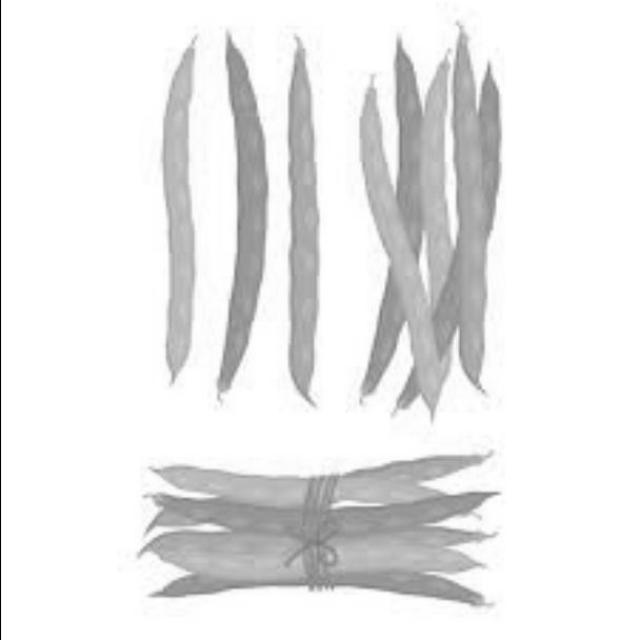bean: (122, 439, 560, 633), (147, 1, 337, 424), (348, 10, 536, 428)
